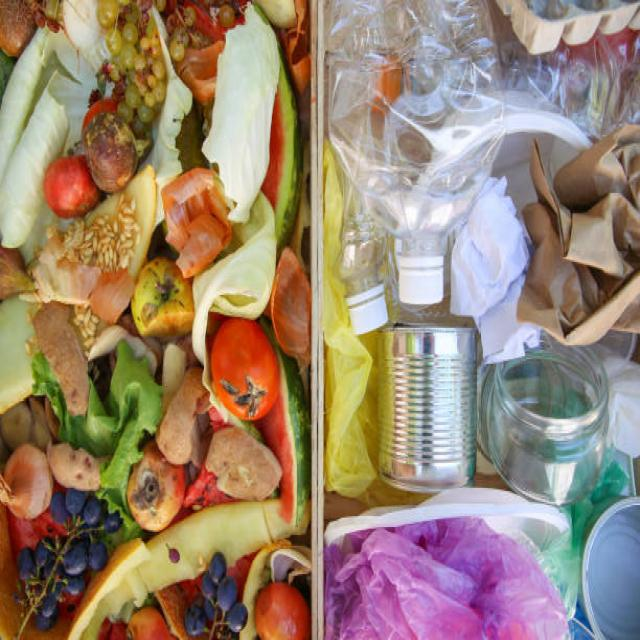cardboard: (531, 140, 640, 320)
glass: (499, 350, 604, 485)
metal: (363, 325, 487, 497)
plastic: (325, 2, 506, 312)
